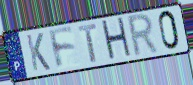0: (158, 9, 182, 52)
F: (47, 26, 78, 71)
H: (99, 16, 134, 63)
K: (25, 31, 52, 72)
R: (127, 12, 161, 59)
T: (77, 22, 98, 65)
